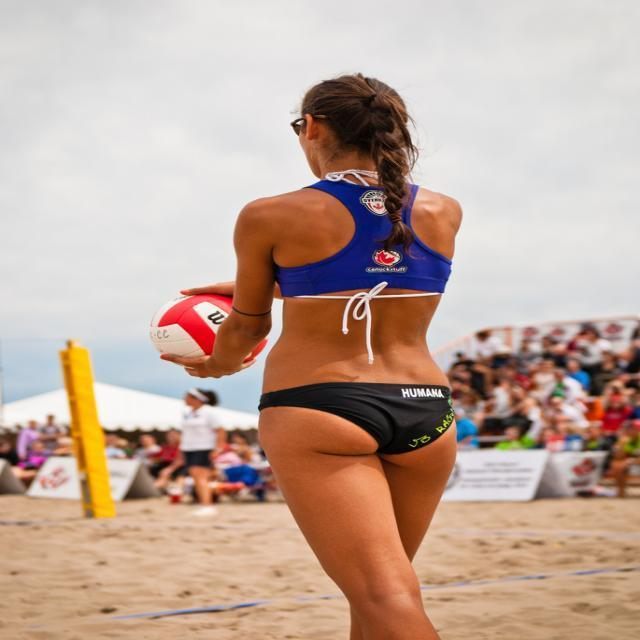ball: (147, 289, 272, 371)
